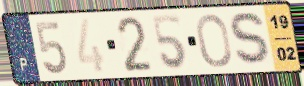2: (115, 15, 154, 74)
4: (75, 17, 107, 75)
5: (150, 12, 190, 73), (33, 19, 68, 76)
O: (195, 13, 234, 70)
S: (228, 10, 275, 68)
